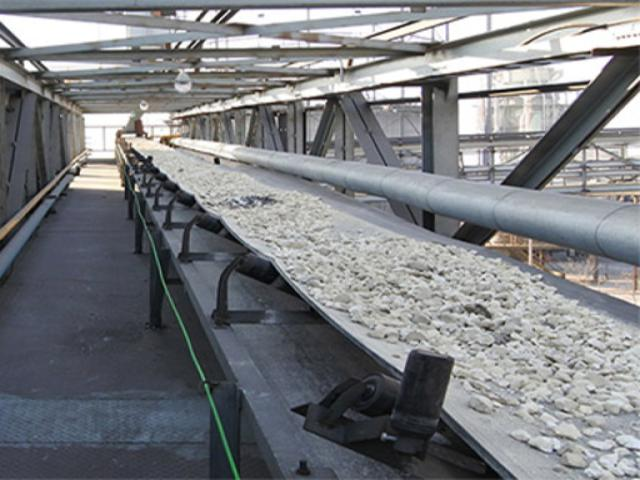conveyor: (99, 121, 640, 480)
